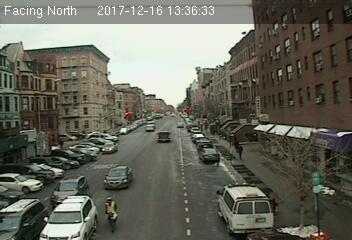bicycle: (102, 197, 120, 236)
car: (37, 195, 100, 240), (2, 196, 47, 240), (51, 175, 87, 205), (105, 166, 132, 187), (201, 148, 220, 162), (101, 140, 118, 152), (157, 132, 170, 140)
police: (215, 181, 275, 236)
